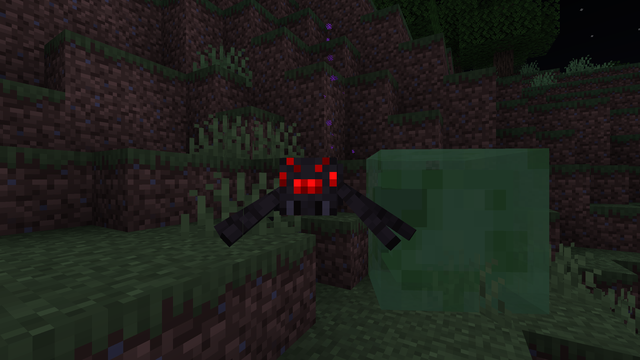araignees: (222, 143, 392, 261)
slimes: (347, 136, 527, 332)
